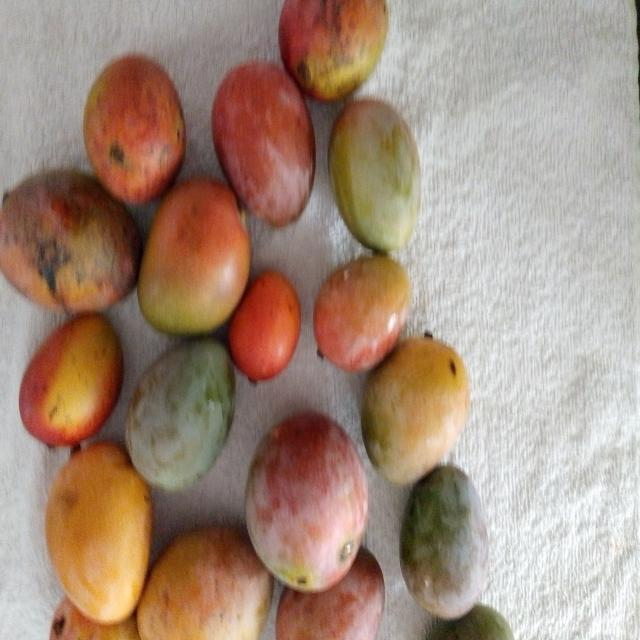mango: (241, 410, 370, 592), (0, 170, 141, 312), (208, 58, 320, 228), (46, 442, 151, 623), (136, 179, 253, 341), (356, 332, 474, 490), (124, 334, 237, 493), (83, 53, 186, 203), (398, 458, 491, 620), (19, 314, 123, 445), (310, 250, 412, 368)
